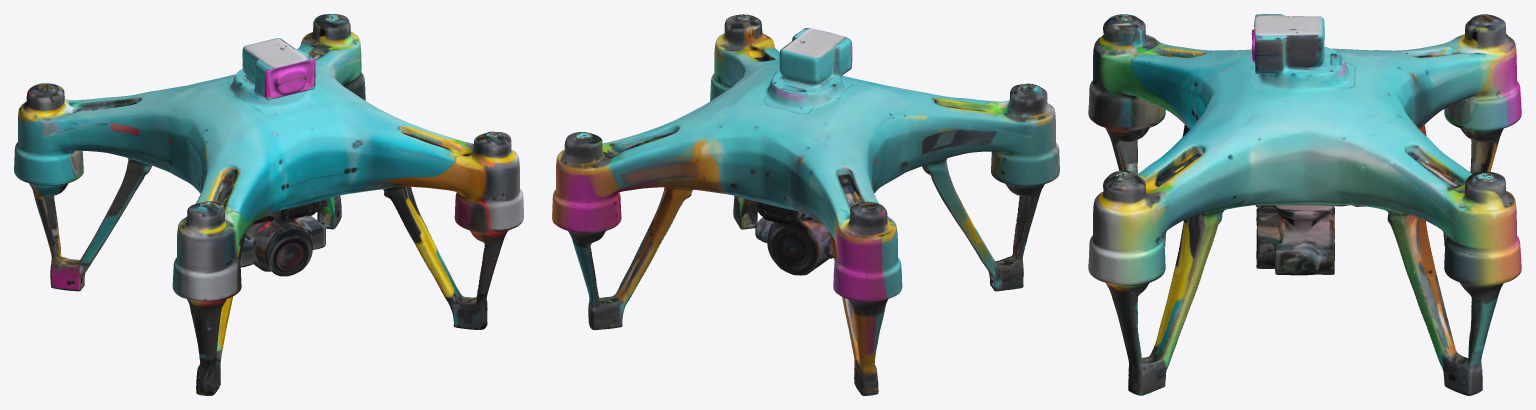
The model's file is drone8.glb.
3 renders of one model, left to right at view 1: azimuth 30°, elevation 25°; view 2: azimuth 150°, elevation 25°; view 3: azimuth 270°, elevation 25°, orthographic. The views are drawn at different scales.
Visible parts, largest first — view 1: Mesh_0; view 2: Mesh_0; view 3: Mesh_0.
Part boxes in pixels (left/top/right/bottom): Mesh_0: left=14, top=14, right=523, bottom=395; Mesh_0: left=552, top=14, right=1059, bottom=395; Mesh_0: left=1088, top=14, right=1521, bottom=395.
Bounding box in the file's own units: 1.34 × 0.9681 × 1.3.
Materials: 1 (1 with a texture image).
